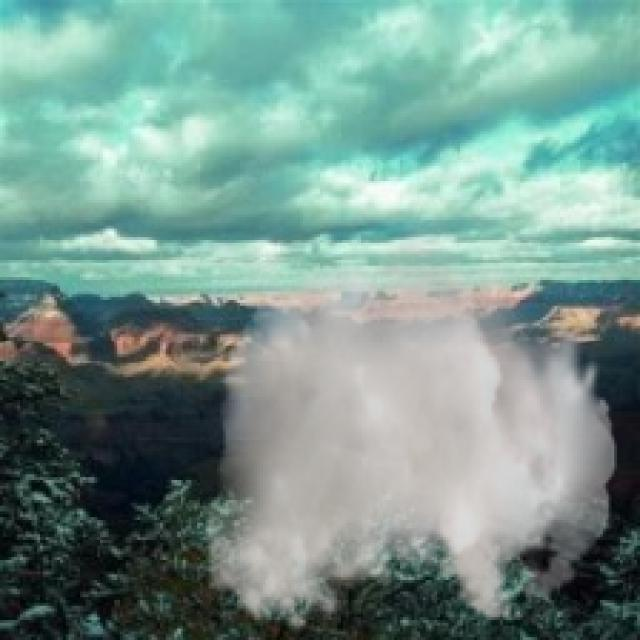Smoke: (202, 212, 618, 634)
